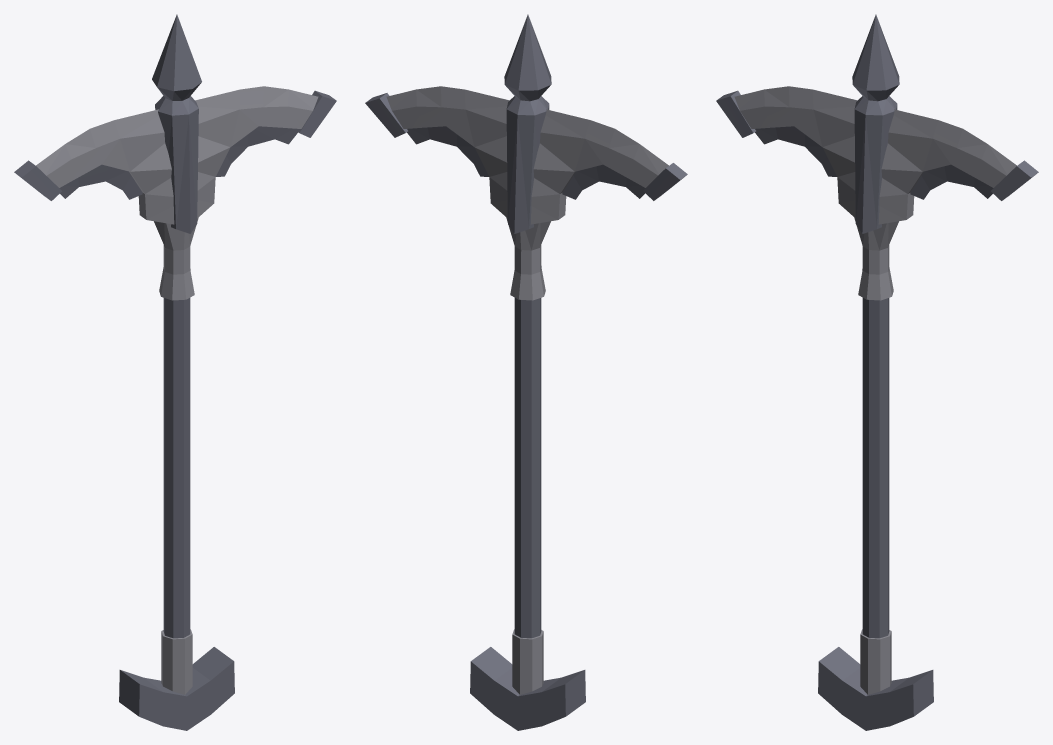
Rendered from hammer_hammer_8.glb.
The picture shows the model from 3 angles, left to right: view 1: azimuth 30°, elevation 25°; view 2: azimuth 150°, elevation 25°; view 3: azimuth 330°, elevation 25°; orthographic projection.
Visible parts, largest first — view 1: hammer_8; view 2: hammer_8; view 3: hammer_8.
Boxes of the visible parts, x1,y1,x2,y2 form: hammer_8: [14, 14, 336, 730]; hammer_8: [365, 14, 687, 730]; hammer_8: [716, 14, 1038, 730].
Size of the model in its own units: 41.14 by 88.47 by 6.12.
1 material, 1 textured.
